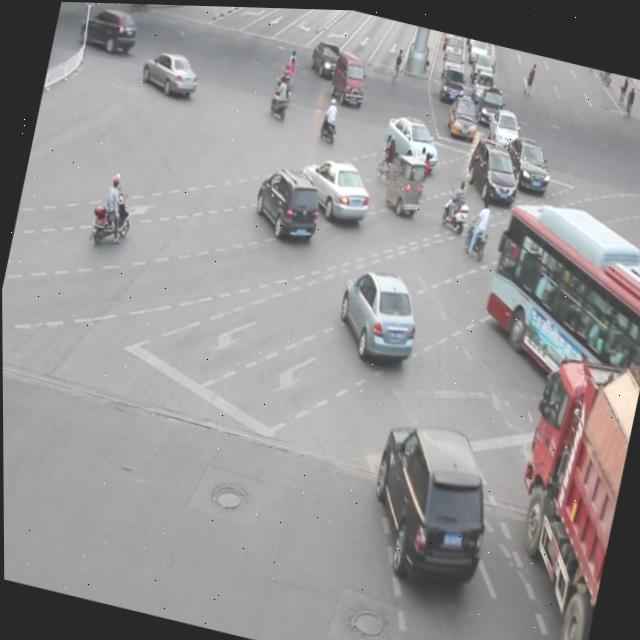bus: (476, 344, 640, 640)
car: (356, 408, 503, 590), (331, 259, 426, 363), (249, 158, 326, 244), (560, 215, 640, 297), (294, 150, 374, 224), (460, 133, 523, 203), (377, 108, 443, 172), (495, 130, 555, 192), (138, 43, 202, 101)
truck: (452, 628, 582, 640)
van: (469, 187, 640, 406)
